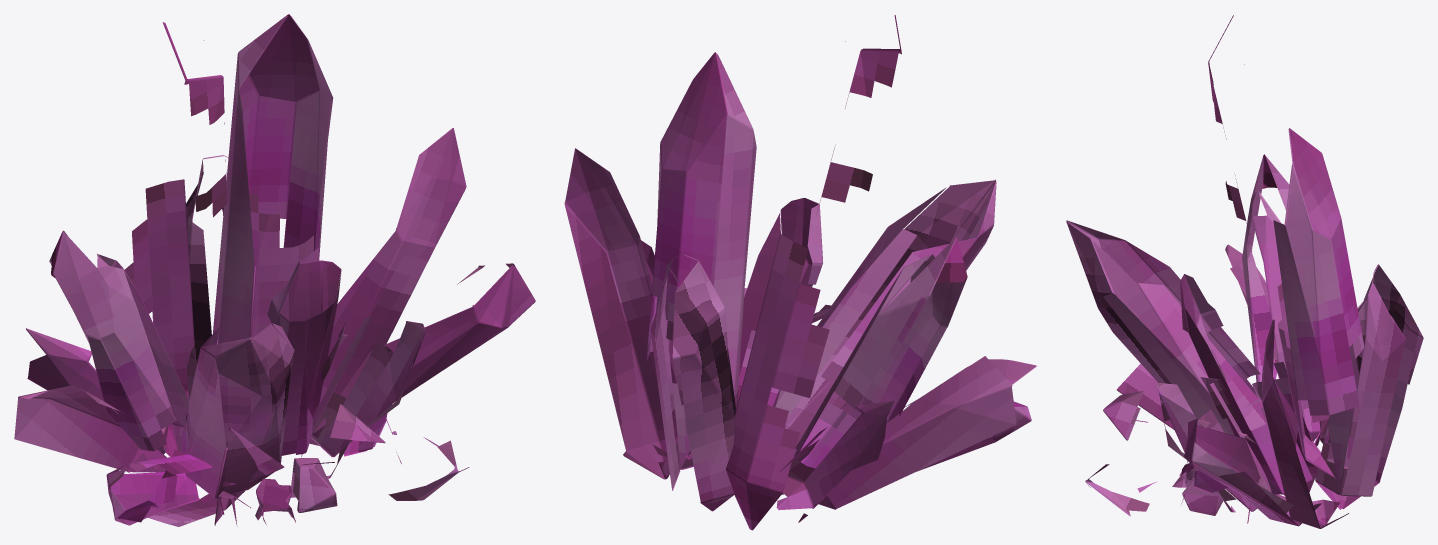
Rendered from dragon_crystal_shard.obj.
The picture shows the model from 3 angles, left to right: view 1: azimuth 30°, elevation 25°; view 2: azimuth 150°, elevation 25°; view 3: azimuth 270°, elevation 25°; orthographic projection. The views are drawn at different scales.
Parts seen in each view (by area): view 1: crystal_item_Mesh; view 2: crystal_item_Mesh; view 3: crystal_item_Mesh.
Part boxes in pixels (x1,y1,x2,y2): crystal_item_Mesh: [14, 14, 535, 526]; crystal_item_Mesh: [564, 15, 1036, 530]; crystal_item_Mesh: [1066, 15, 1423, 528].
Bounding box in the file's own units: 5.13 × 5.14 × 3.71.
